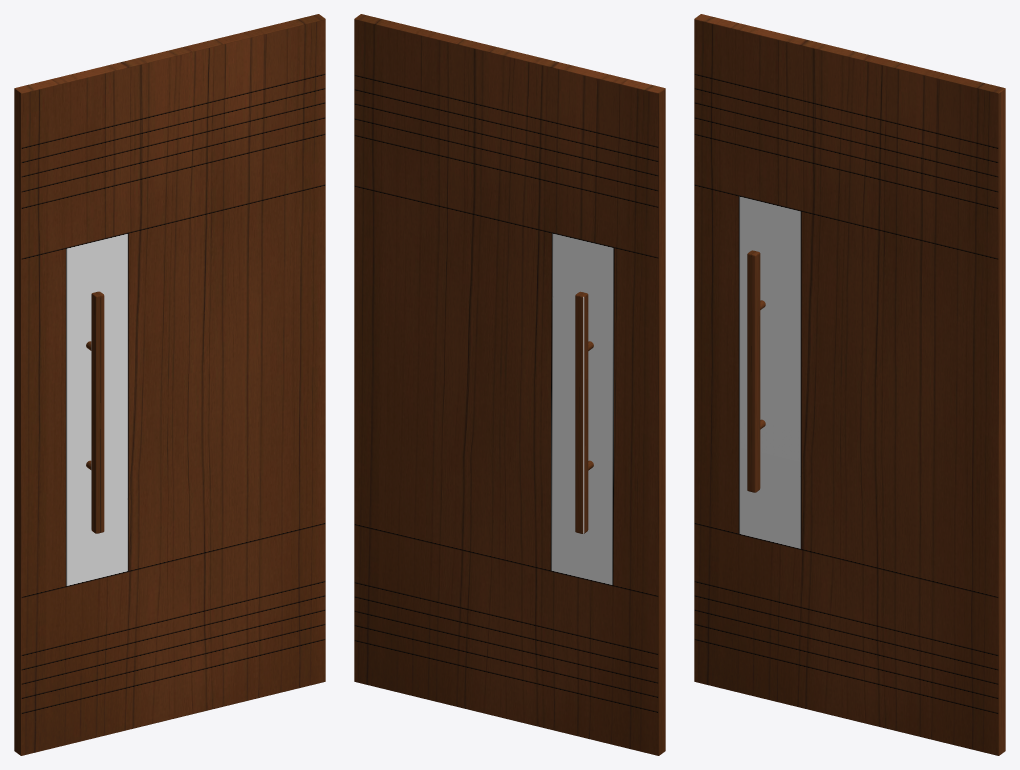
3 renders of one model, left to right at view 1: azimuth 30°, elevation 25°; view 2: azimuth 150°, elevation 25°; view 3: azimuth 330°, elevation 25°, orthographic.
Parts seen in each view (by area): view 1: pCube41, pCube44; view 2: pCube41, pCube44; view 3: pCube41, pCube44.
Boxes of the visible parts, <box> form: pCube41: <box>14,14,325,755</box>; pCube44: <box>86,291,104,533</box>; pCube41: <box>354,14,665,755</box>; pCube44: <box>575,291,593,533</box>; pCube41: <box>694,14,1005,755</box>; pCube44: <box>747,250,765,492</box>.
Bounding box in the file's own units: 1.77 × 3.68 × 0.2995.
1 material, 1 textured.
